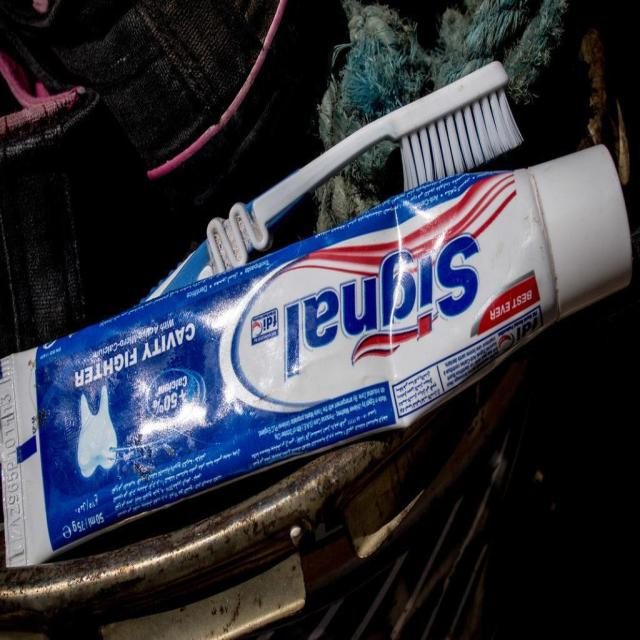Toothpaste: (3, 144, 636, 576)
